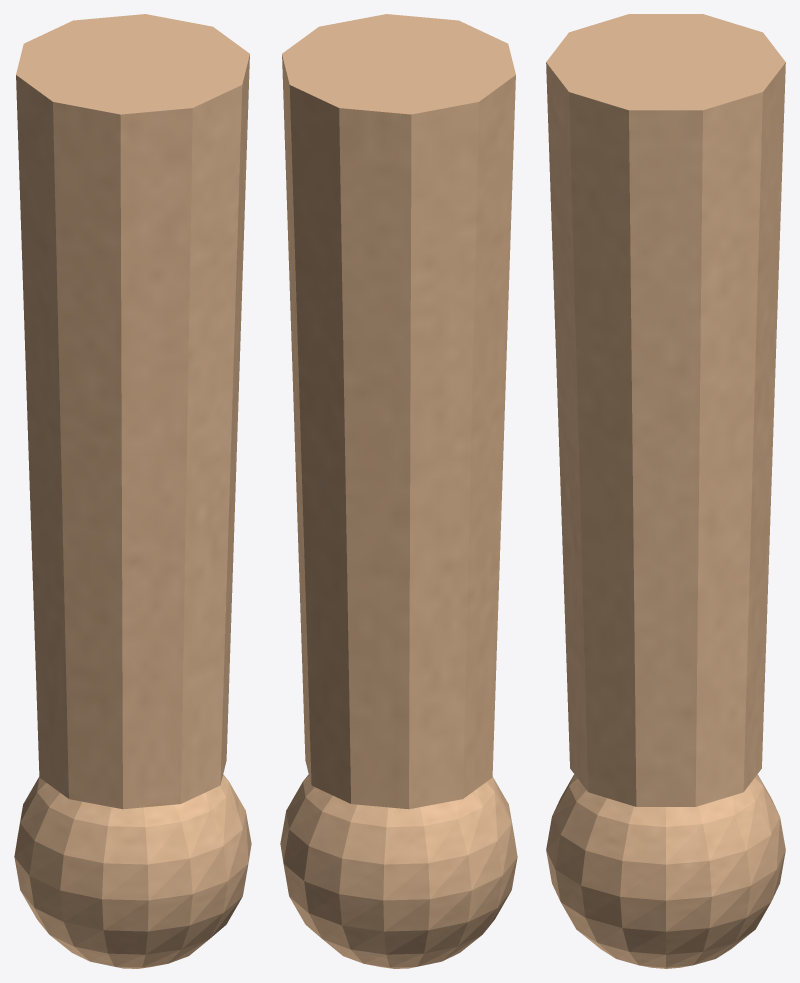
File: JugA_Antebrazo.obj
3 views of the same model, side by side, from view 1: azimuth 30°, elevation 25°; view 2: azimuth 150°, elevation 25°; view 3: azimuth 270°, elevation 25° (orthographic).
Size of the model in its own units: 0.08 by 0.33 by 0.08.
1 material, 1 textured.
